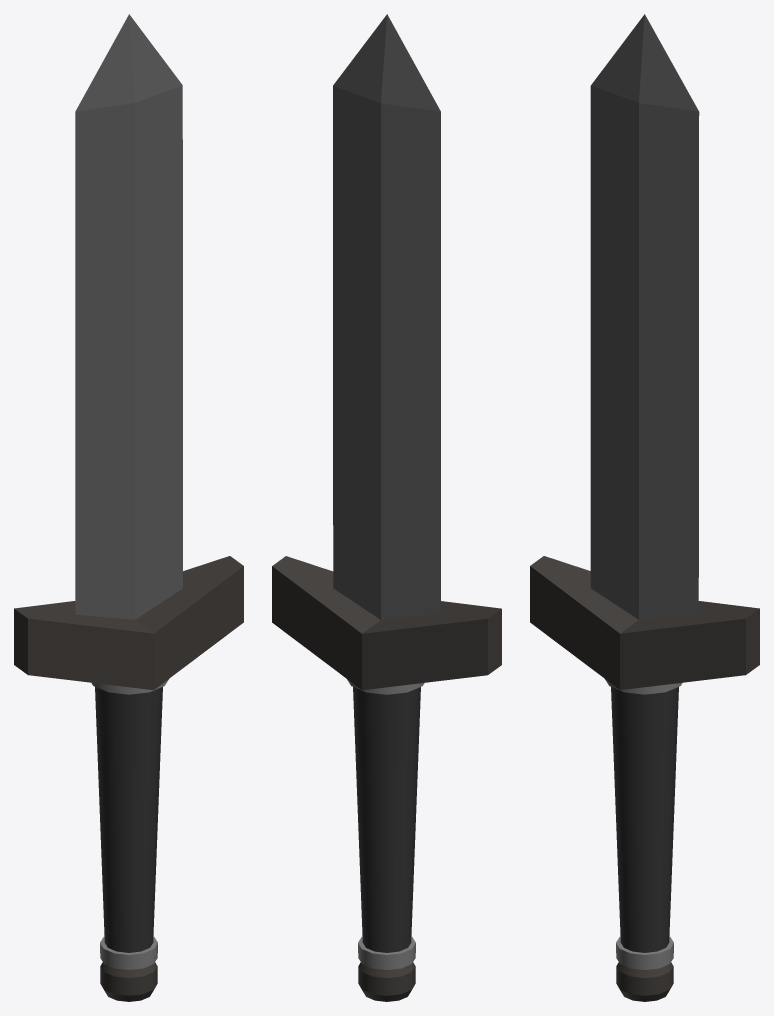
The model's file is Dagger.fbx.
3 renders of one model, left to right at view 1: azimuth 30°, elevation 25°; view 2: azimuth 150°, elevation 25°; view 3: azimuth 330°, elevation 25°, orthographic.
Visible parts, largest first — view 1: Dagger_Baked; view 2: Dagger_Baked; view 3: Dagger_Baked.
Boxes of the visible parts, x1,y1,x2,y2 form: Dagger_Baked: (14, 14, 243, 1001); Dagger_Baked: (272, 14, 501, 1001); Dagger_Baked: (530, 14, 759, 1001).
Bounding box in the file's own units: 8 × 34.63 × 3.2.
1 material, 1 textured.
